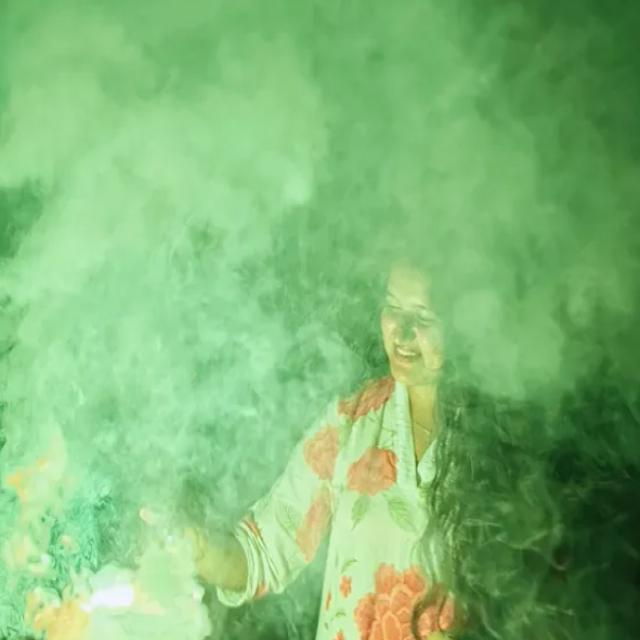fire: (81, 581, 135, 617)
